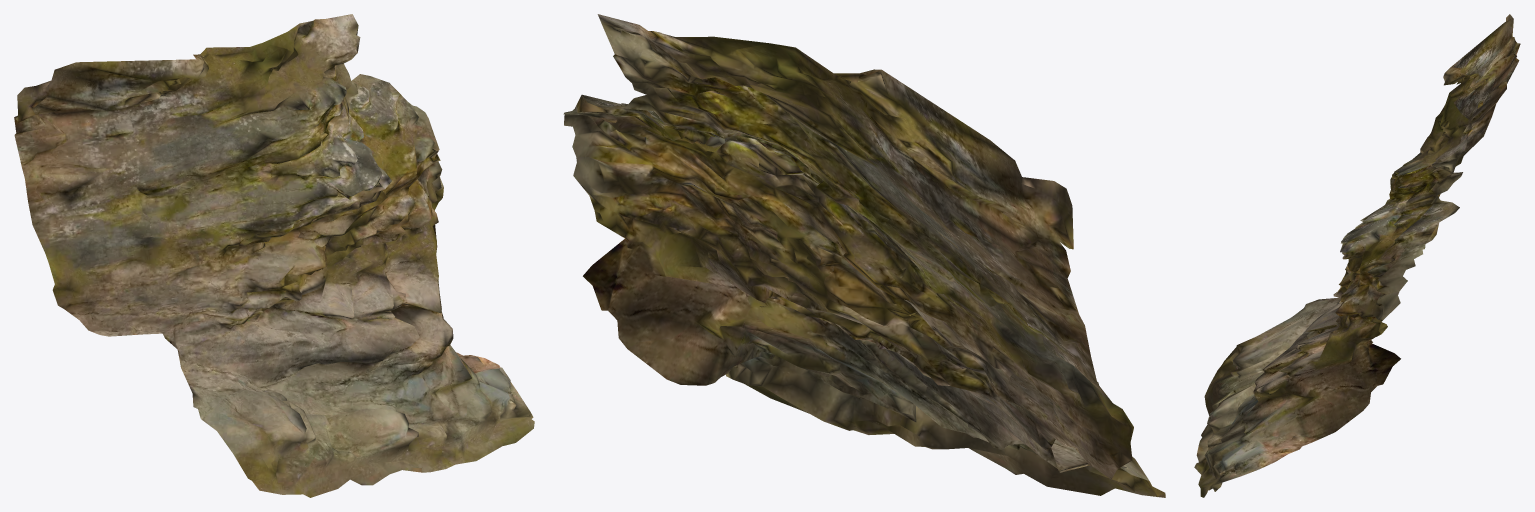
The model's file is rock_face_02.glb.
3 views of the same model, side by side, from view 1: azimuth 30°, elevation 25°; view 2: azimuth 150°, elevation 25°; view 3: azimuth 270°, elevation 25° (orthographic). The views are drawn at different scales.
Visible parts, largest first — view 1: rock_face_02; view 2: rock_face_02; view 3: rock_face_02.
Boxes of the visible parts, left/top/right/bottom form: rock_face_02: left=14, top=14, right=534, bottom=497; rock_face_02: left=563, top=14, right=1165, bottom=497; rock_face_02: left=1194, top=14, right=1520, bottom=497.
Size of the model in its own units: 2.71 by 2.47 by 2.13.
1 material, 1 textured.
